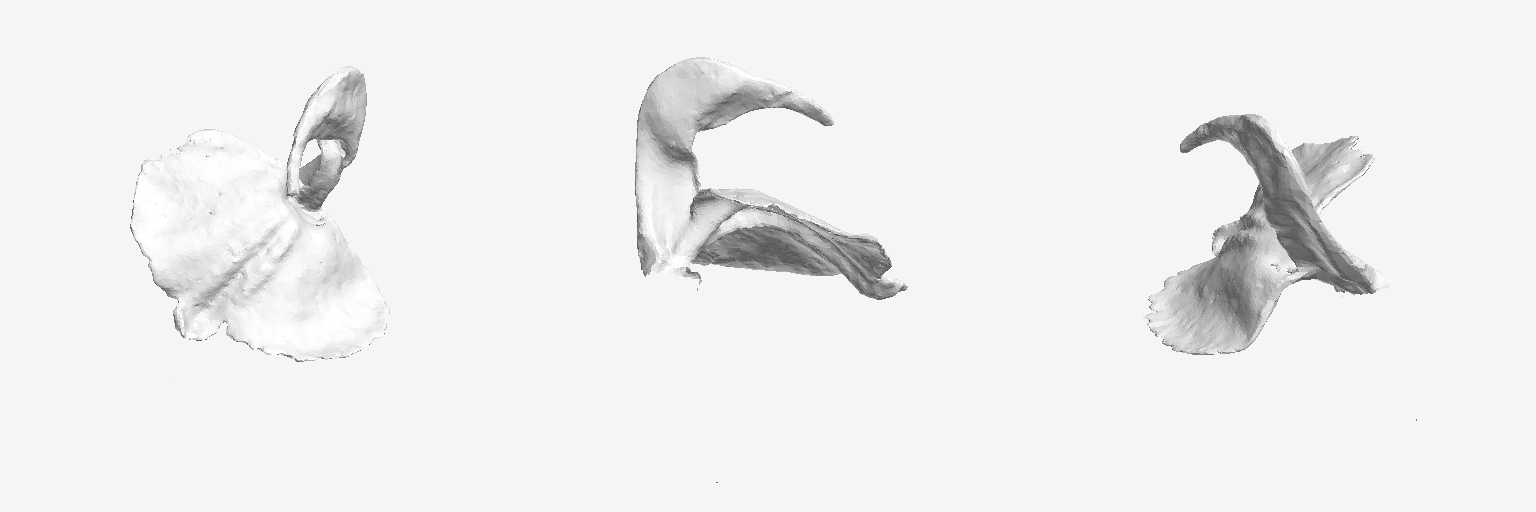
The model's file is alaschanica_DE229.obj.
3 renders of one model, left to right at view 1: azimuth 30°, elevation 25°; view 2: azimuth 150°, elevation 25°; view 3: azimuth 270°, elevation 25°, orthographic.
Bounding box in the file's own units: 0.2511 × 0.3548 × 0.2545.